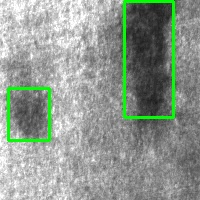patches: (124, 1, 173, 117), (9, 88, 49, 140)
